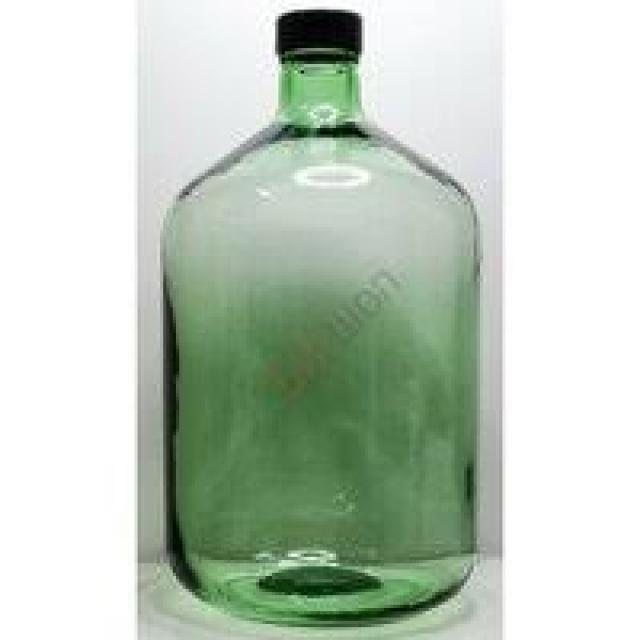glass: (160, 45, 477, 624)
plastic: (276, 7, 359, 52)
